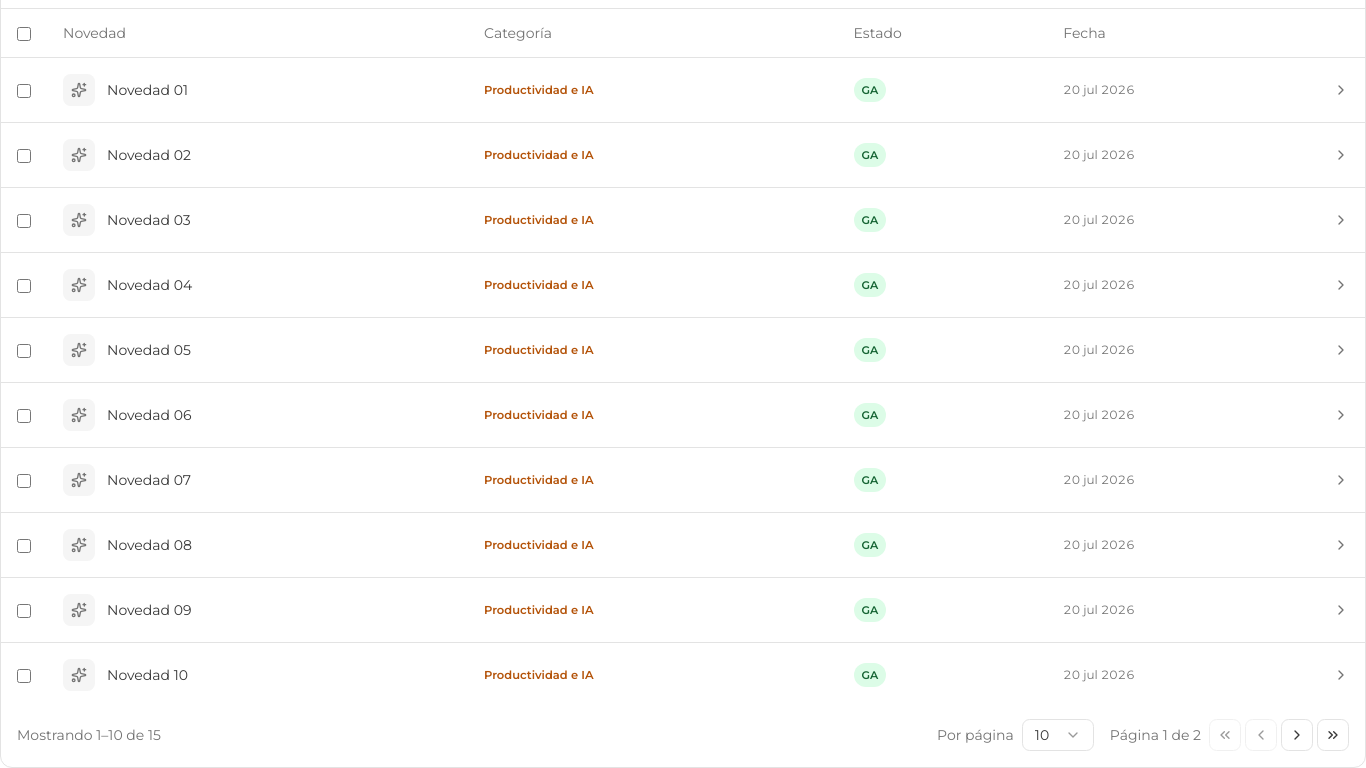
it: paginación: 15 pendientes muestran 10 en la página 1 y navegan a la página 2
(page scrolled)
Expected: the text "Novedad 01" is shown, x1=107 y1=80 x2=188 y2=100
Expected: the text "Novedad 10" is shown, x1=107 y1=664 x2=188 y2=684
Click the button named "Página siguiente": click(1297, 734) x1=1281 y1=718 x2=1313 y2=750
(page scrolled)
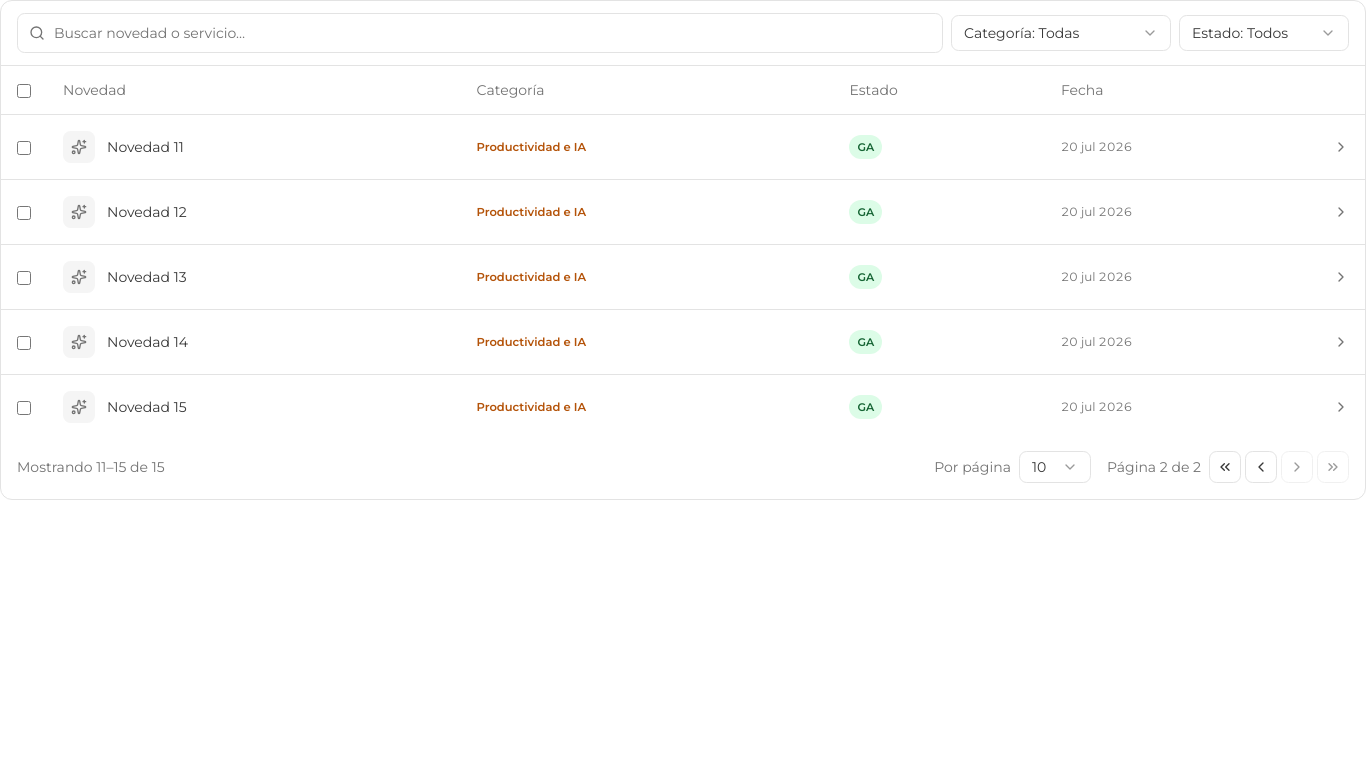
Expected: the text "Novedad 11" is shown, x1=107 y1=136 x2=184 y2=156
Expected: the text "Novedad 01" is gone
